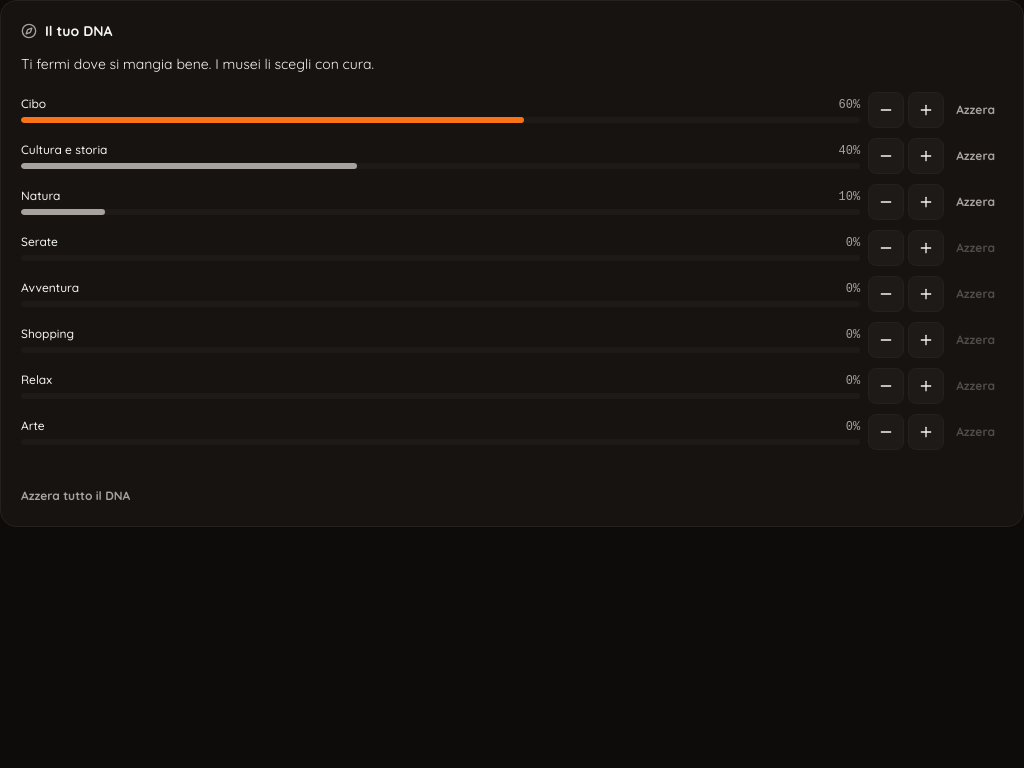
Test: DNA-6 — Il tuo DNA › correzione non salvata: lo dice, non finge
The image size is (1024, 768).
Step 1. Click the button named "Più cibo" → (926, 110), box x1=908 y1=92 x2=944 y2=128
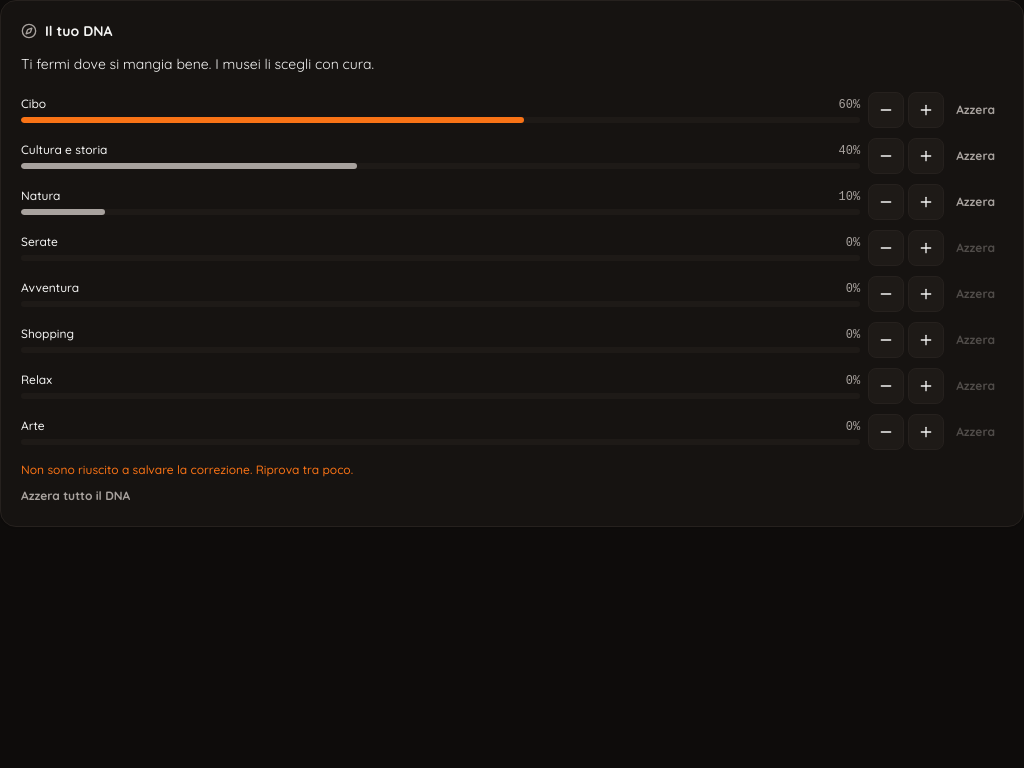
Now the text with test id "dna-esito" shows "Non sono riuscito a salvare", box x1=21 y1=462 x2=353 y2=477
